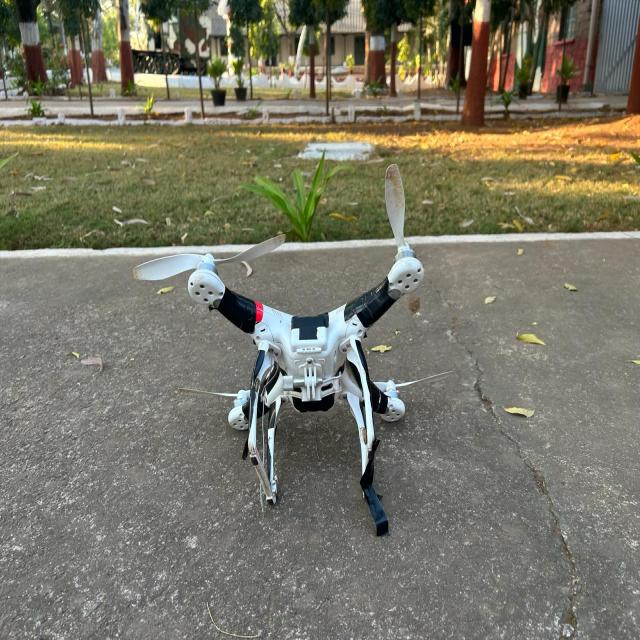drone: (109, 163, 509, 583)
